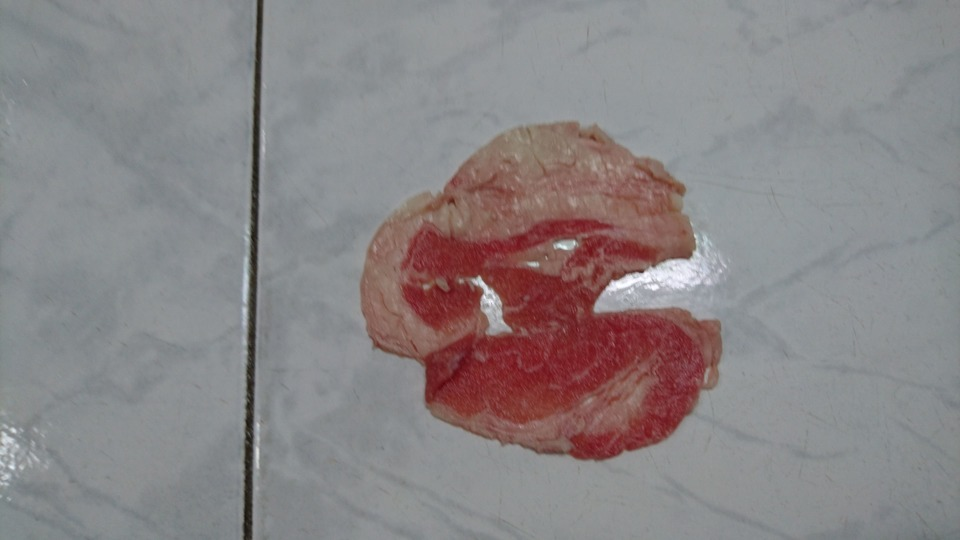restructured meat: (357, 124, 722, 459)
